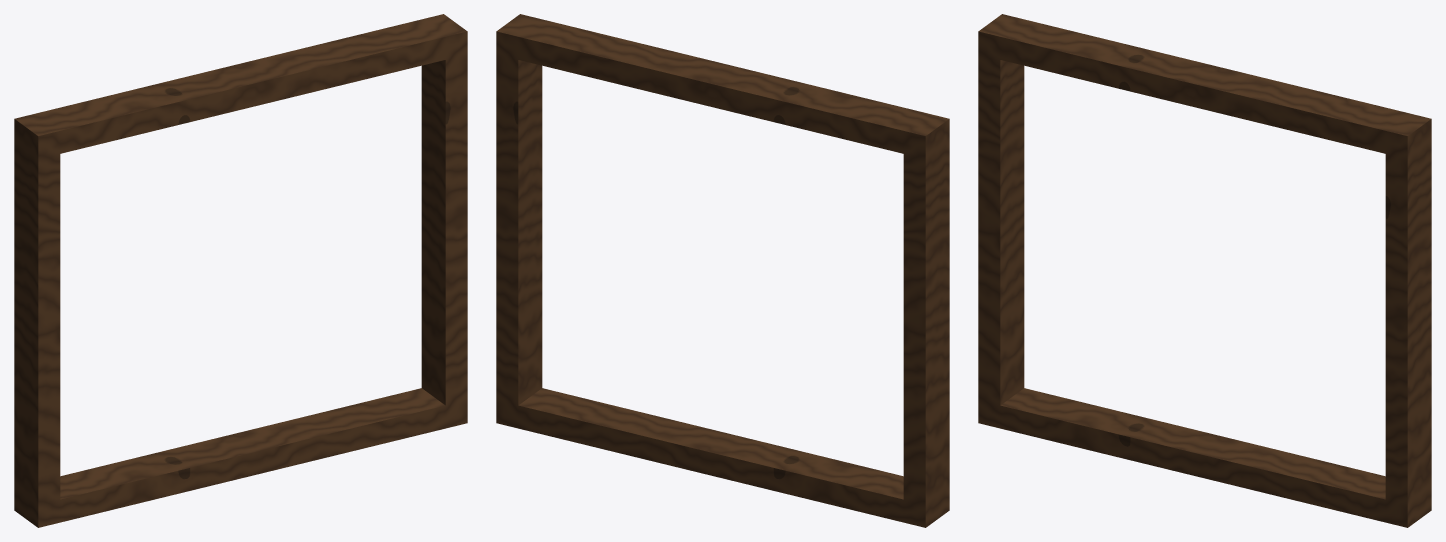
File: window_frame_wide.glb
3 renders of one model, left to right at view 1: azimuth 30°, elevation 25°; view 2: azimuth 150°, elevation 25°; view 3: azimuth 330°, elevation 25°, orthographic.
Visible parts, largest first — view 1: jamb_l, head, stool, jamb_r; view 2: jamb_l, head, stool, jamb_r; view 3: jamb_r, head, stool, jamb_l.
Boxes of the visible parts, box(x1,y1,x2,y2) form: jamb_l: box(14, 113, 60, 527); head: box(37, 19, 445, 153); stool: box(60, 388, 445, 522); jamb_r: box(421, 14, 467, 428); jamb_l: box(903, 113, 949, 527); head: box(518, 19, 926, 153); stool: box(518, 388, 903, 522); jamb_r: box(496, 14, 542, 428); jamb_r: box(1385, 113, 1431, 527); head: box(1000, 19, 1408, 153); stool: box(1000, 388, 1385, 522); jamb_l: box(978, 14, 1024, 428).
Bounding box in the file's own units: 1.56 × 1.36 × 0.15.
Materials: 1 (1 with a texture image).
